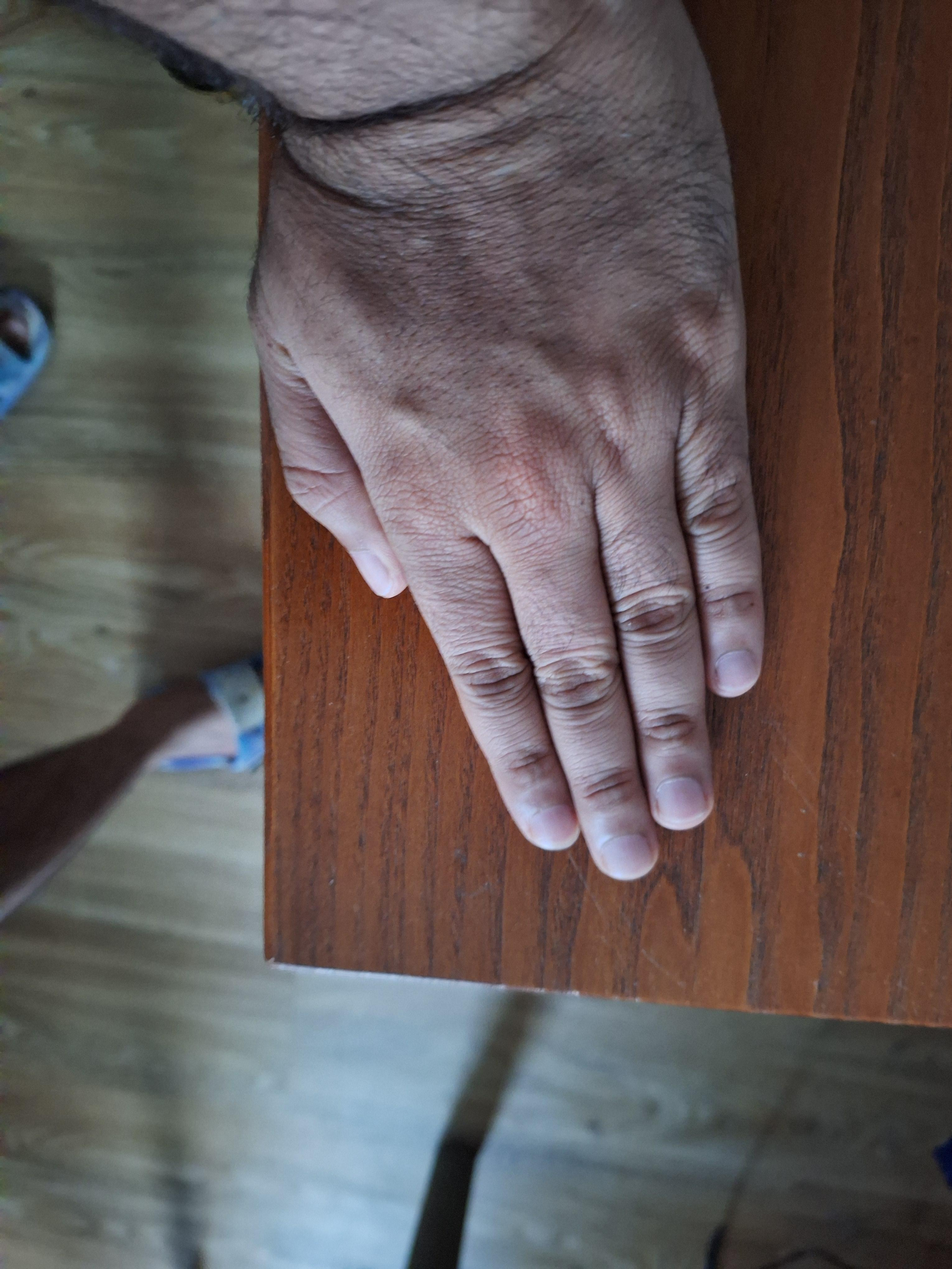Fingernail: (656, 777, 706, 824), (531, 804, 580, 851), (602, 835, 652, 880), (349, 551, 393, 597), (716, 651, 757, 691)
